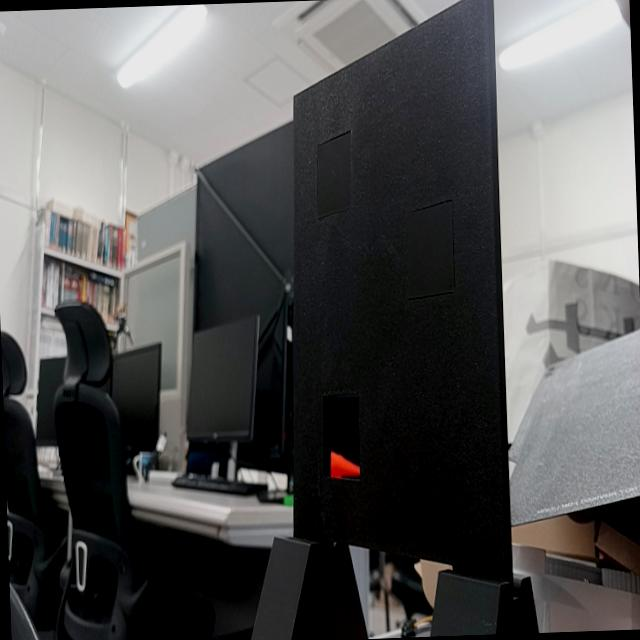Obstacle: (321, 396, 359, 476)
Wall: (293, 0, 511, 579)
